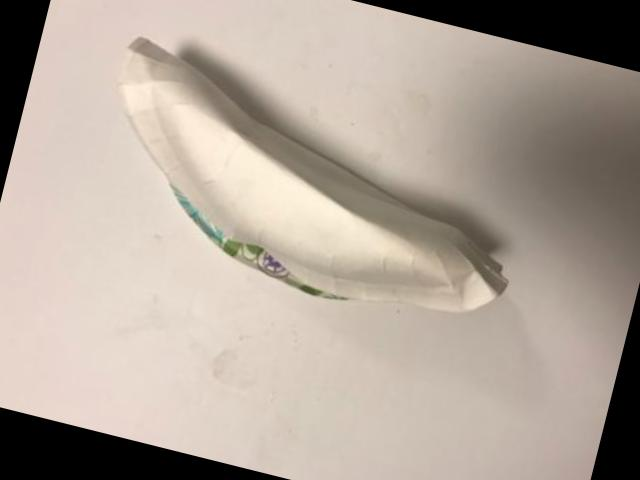cardboard paper: (116, 36, 505, 310)
